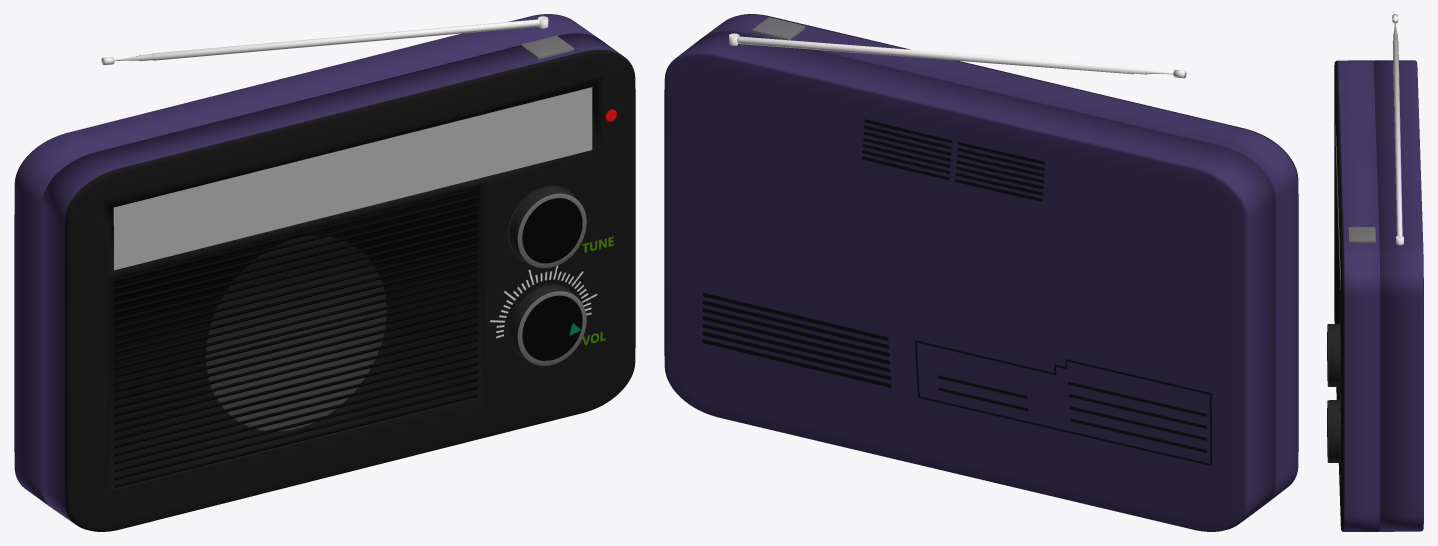
File: radio.glb
3 views of the same model, side by side, from view 1: azimuth 30°, elevation 25°; view 2: azimuth 150°, elevation 25°; view 3: azimuth 270°, elevation 25° (orthographic). The views are drawn at different scales.
Visible parts, largest first — view 1: radio base, radio_buttons; view 2: radio base, radio_buttons; view 3: radio base, radio_buttons.
Part boxes in pixels (bbox=[...]): radio base: bbox=[14, 14, 635, 531]; radio_buttons: bbox=[101, 16, 592, 488]; radio base: bbox=[664, 14, 1298, 531]; radio_buttons: bbox=[729, 17, 1186, 78]; radio base: bbox=[1334, 60, 1423, 531]; radio_buttons: bbox=[1327, 14, 1403, 462].
Size of the model in its own units: 0.7996 by 0.5833 by 0.1494.
2 materials, 2 textured.
